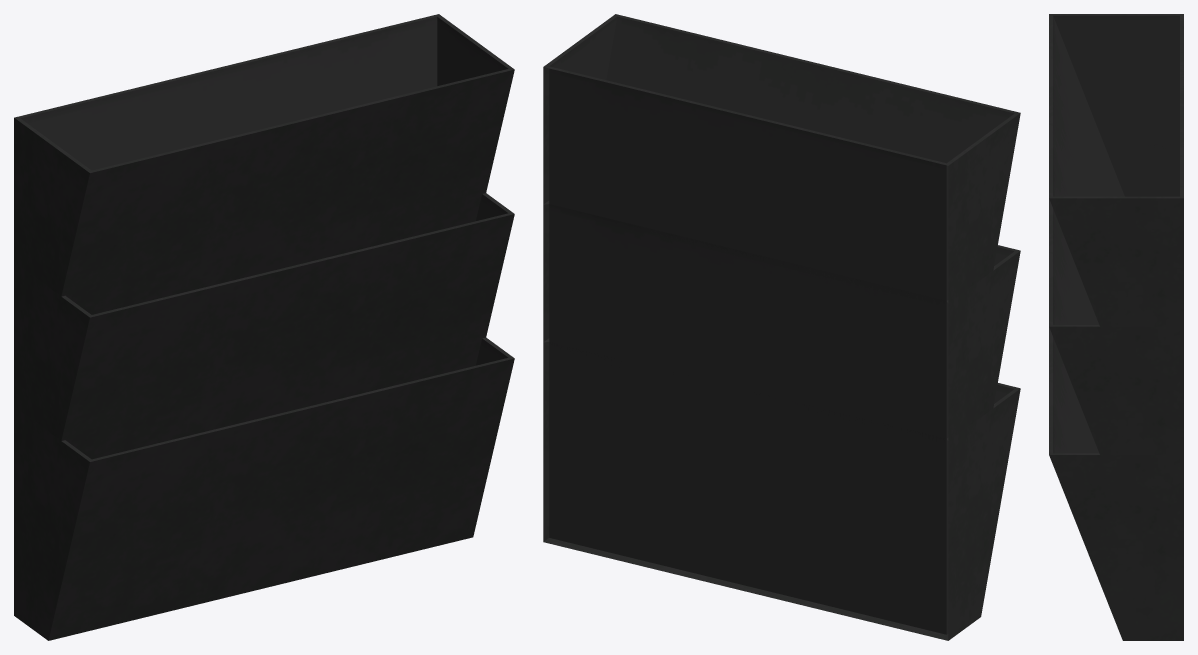
The model's file is FBX_PaperTrayB.fbx.
The picture shows the model from 3 angles, left to right: view 1: azimuth 30°, elevation 25°; view 2: azimuth 150°, elevation 25°; view 3: azimuth 270°, elevation 25°; orthographic projection. The views are drawn at different scales.
Parts seen in each view (by area): view 1: SM_PaperTrayB; view 2: SM_PaperTrayB; view 3: SM_PaperTrayB.
Part boxes in pixels (bbox=[...]): SM_PaperTrayB: bbox=[14, 14, 514, 640]; SM_PaperTrayB: bbox=[543, 14, 1020, 640]; SM_PaperTrayB: bbox=[1049, 14, 1183, 640].
Size of the model in its own units: 0.32 by 0.3586 by 0.0991.
